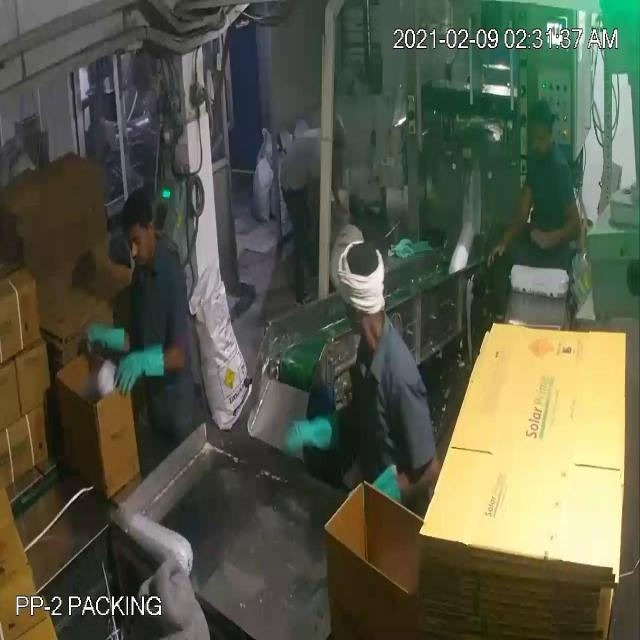Gloves: (54, 49, 556, 430)
